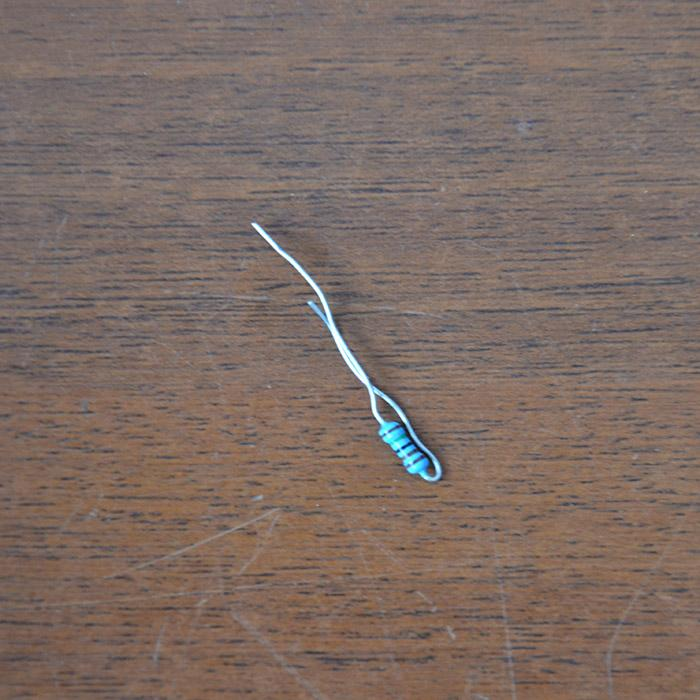resistor: (375, 420, 429, 476)
